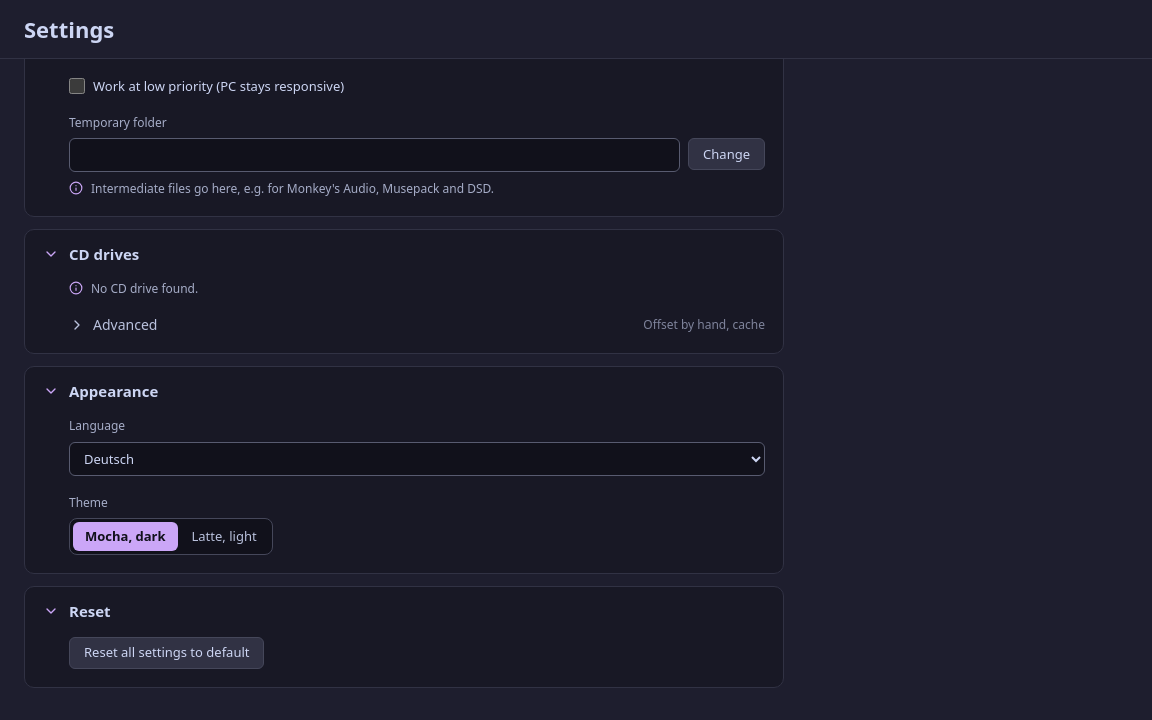
settings page › reset_needs_confirmation
Later steps or results of the test are not shown.
(page scrolled)
Click the button "Reset all settings to default" at (167, 653), box [69,637,264,669]
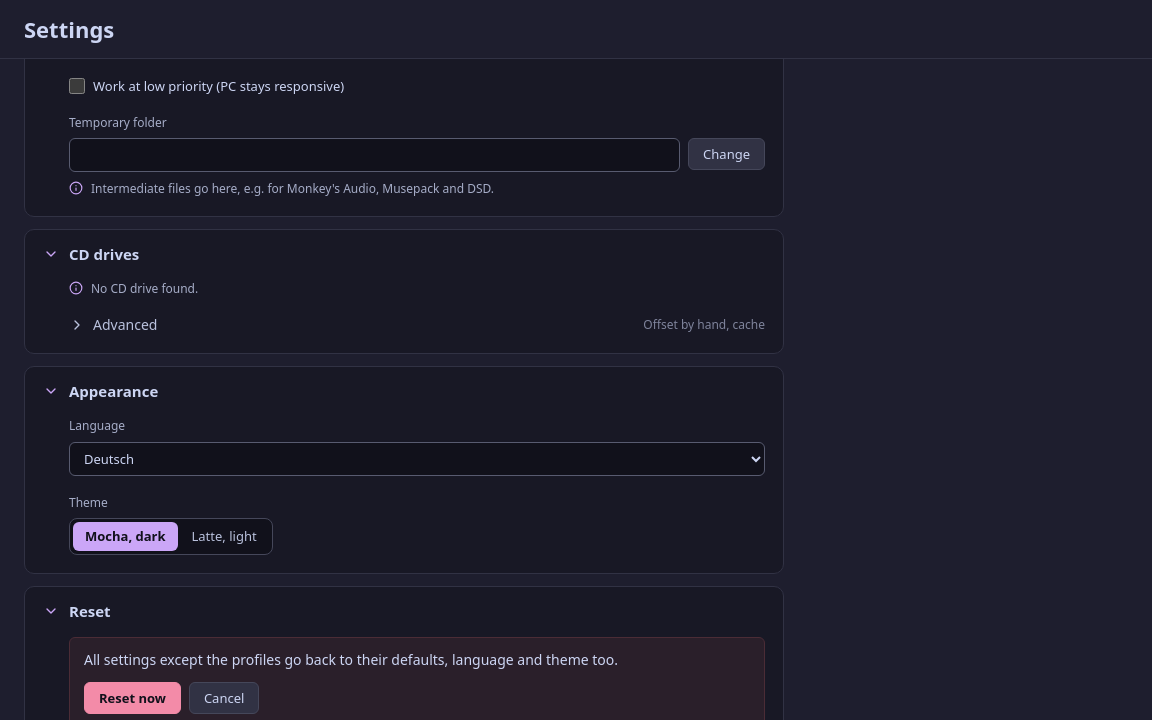
Check: the text "except the profiles" is shown, box [84,650,618,669]
